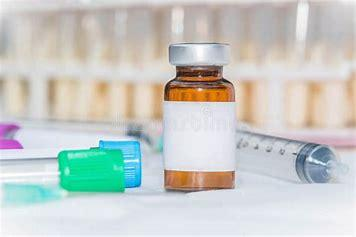Syringe: (158, 30, 245, 202)
